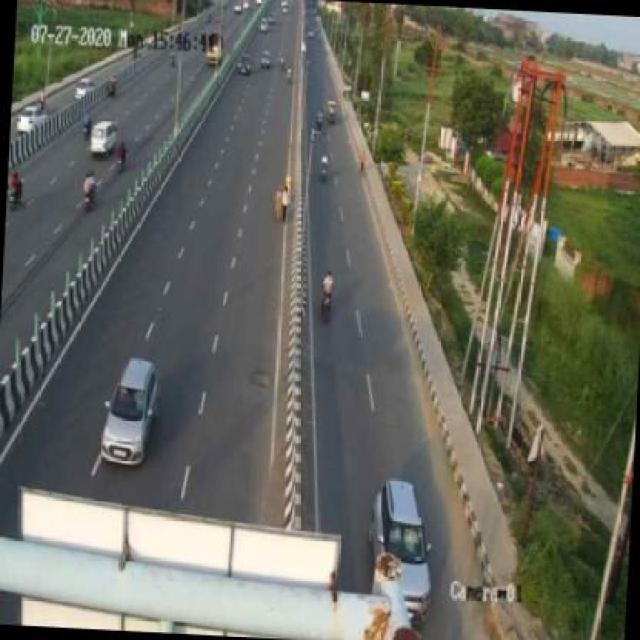car: (356, 474, 442, 617), (95, 358, 158, 471), (90, 114, 118, 158), (234, 48, 254, 78)
